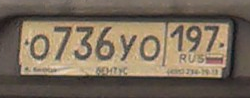character: (94, 25, 116, 62), (73, 25, 94, 62), (53, 24, 73, 62), (29, 33, 51, 61), (140, 33, 161, 62), (184, 24, 203, 55), (119, 32, 137, 61), (170, 23, 185, 55), (203, 24, 220, 51)
